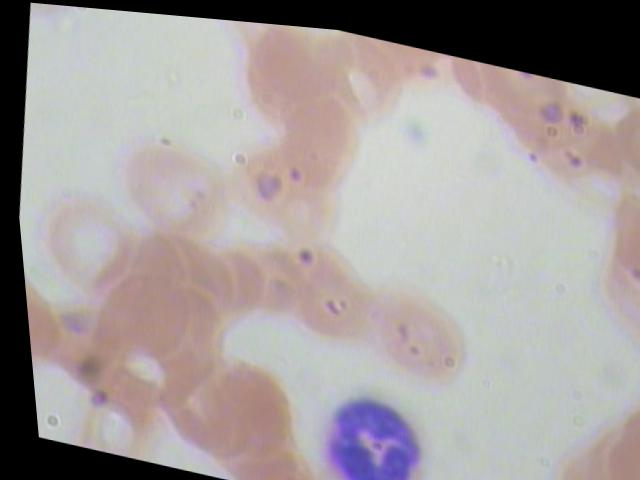Red Blood Cells: (13, 186, 143, 308), (217, 128, 347, 249), (251, 84, 381, 205), (349, 271, 479, 391), (262, 236, 392, 356), (110, 133, 240, 253), (179, 345, 309, 465), (71, 260, 201, 380), (220, 15, 351, 133)
White Blood Cells: (290, 379, 446, 479)
